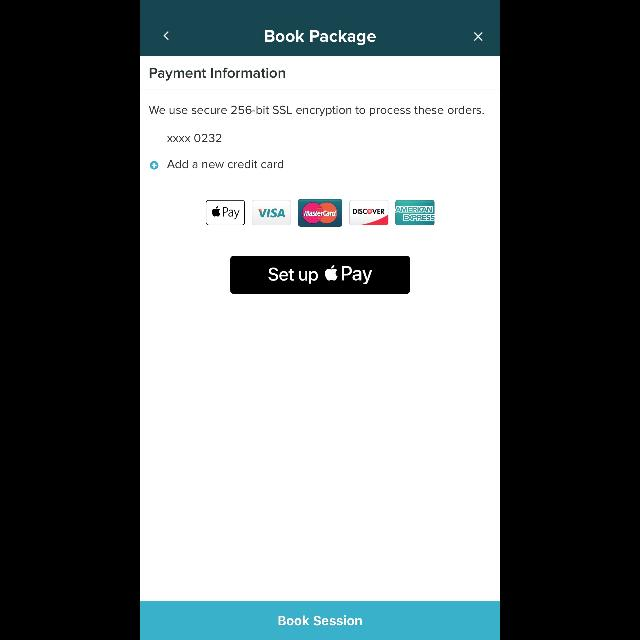icon: (473, 32, 482, 42), (150, 162, 158, 170), (164, 32, 168, 40)
image: (298, 199, 342, 227), (252, 200, 292, 226), (207, 200, 246, 226), (349, 200, 388, 226), (396, 200, 434, 226)
text: (150, 105, 484, 116), (266, 30, 376, 46), (150, 68, 286, 80), (167, 160, 283, 168), (167, 134, 221, 142)
textbutton: (140, 600, 500, 640), (230, 256, 410, 294)
